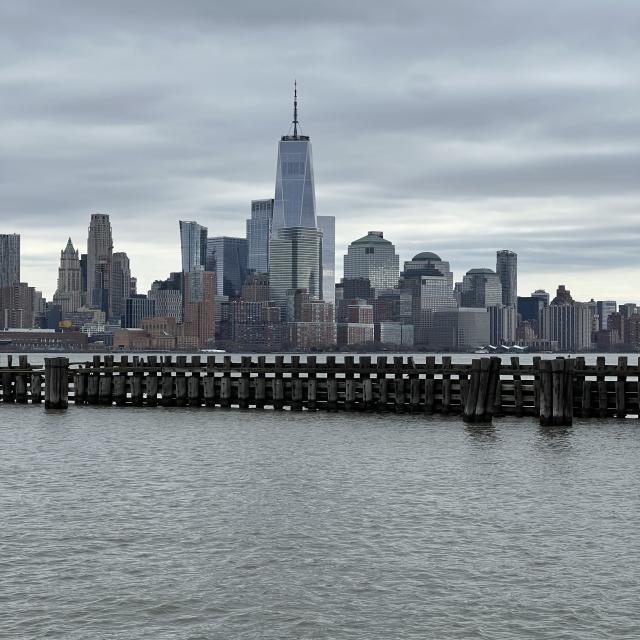WTC: (273, 80, 318, 231)
